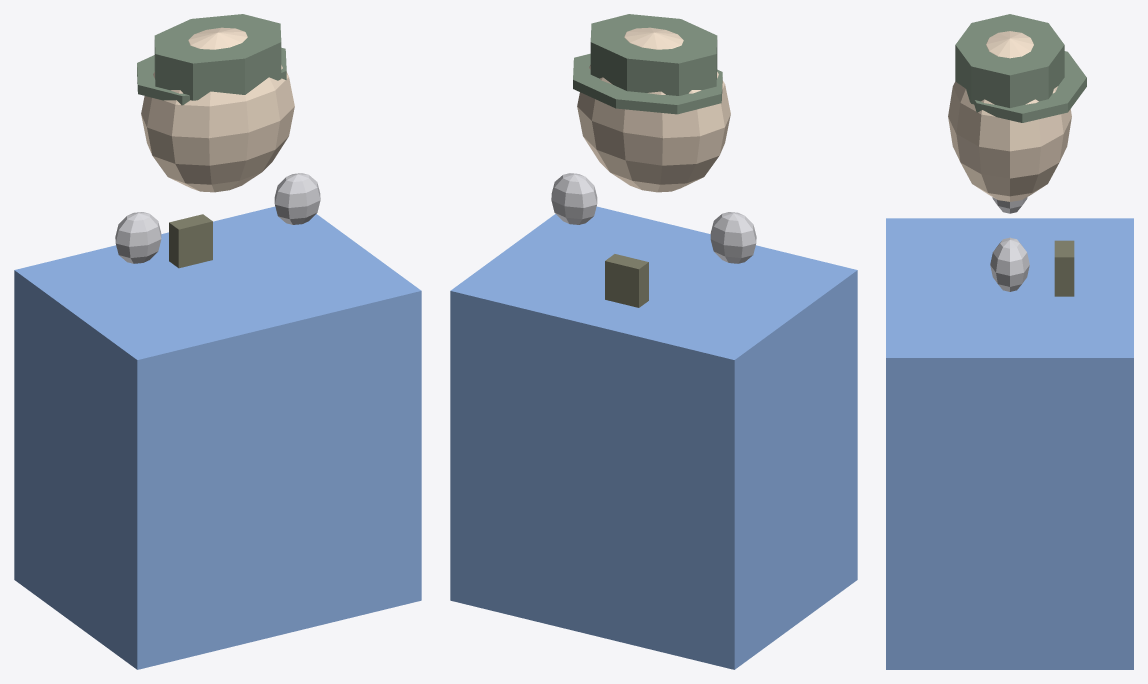
Rendered from soldado.glb.
3 views of the same model, side by side, from view 1: azimuth 30°, elevation 25°; view 2: azimuth 150°, elevation 25°; view 3: azimuth 270°, elevation 25° (orthographic).
Visible parts, largest first — view 1: Body, Head, Helmet, Backpack, ShoulderL, ShoulderR, HelmetBrim; view 2: Body, Head, Helmet, HelmetBrim, Backpack, ShoulderL, ShoulderR; view 3: Body, Head, Helmet, HelmetBrim, ShoulderR, Backpack.
Part boxes in pixels (x1=…): Body: x1=14, y1=206, x2=421, y2=669; Head: x1=141, y1=27, x2=294, y2=192; Helmet: x1=154, y1=14, x2=281, y2=100; Backpack: x1=169, y1=214, x2=212, y2=268; ShoulderL: x1=115, y1=212, x2=161, y2=263; ShoulderR: x1=274, y1=173, x2=320, y2=224; HelmetBrim: x1=137, y1=47, x2=286, y2=105; Body: x1=450, y1=206, x2=857, y2=669; Head: x1=577, y1=27, x2=730, y2=192; Helmet: x1=590, y1=14, x2=717, y2=95; HelmetBrim: x1=573, y1=53, x2=722, y2=114; Backpack: x1=605, y1=254, x2=648, y2=307; ShoulderL: x1=710, y1=212, x2=756, y2=263; ShoulderR: x1=551, y1=173, x2=597, y2=224; Body: x1=886, y1=218, x2=1133, y2=669; Head: x1=948, y1=31, x2=1071, y2=201; Helmet: x1=955, y1=14, x2=1064, y2=107; HelmetBrim: x1=974, y1=51, x2=1086, y2=122; ShoulderR: x1=990, y1=237, x2=1029, y2=291; Backpack: x1=1054, y1=240, x2=1074, y2=296.
Size of the model in its own units: 0.24 by 0.45 by 0.18.
